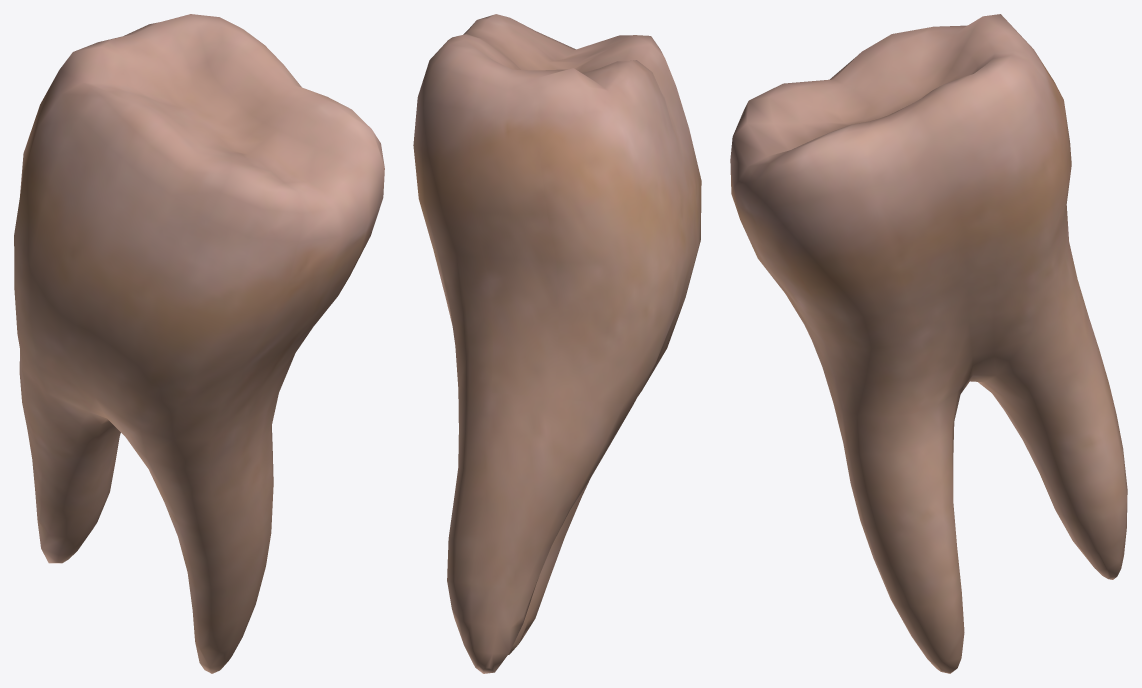
3 views of the same model, side by side, from view 1: azimuth 30°, elevation 25°; view 2: azimuth 150°, elevation 25°; view 3: azimuth 270°, elevation 25° (orthographic). The views are drawn at different scales.
Visible parts, largest first — view 1: t_46; view 2: t_46; view 3: t_46.
Boxes of the visible parts, x1,y1,x2,y2 form: t_46: [14, 14, 384, 673]; t_46: [413, 14, 701, 673]; t_46: [730, 14, 1127, 673].
Size of the model in its own units: 0.094 by 0.2062 by 0.1211.
1 material, 1 textured.
